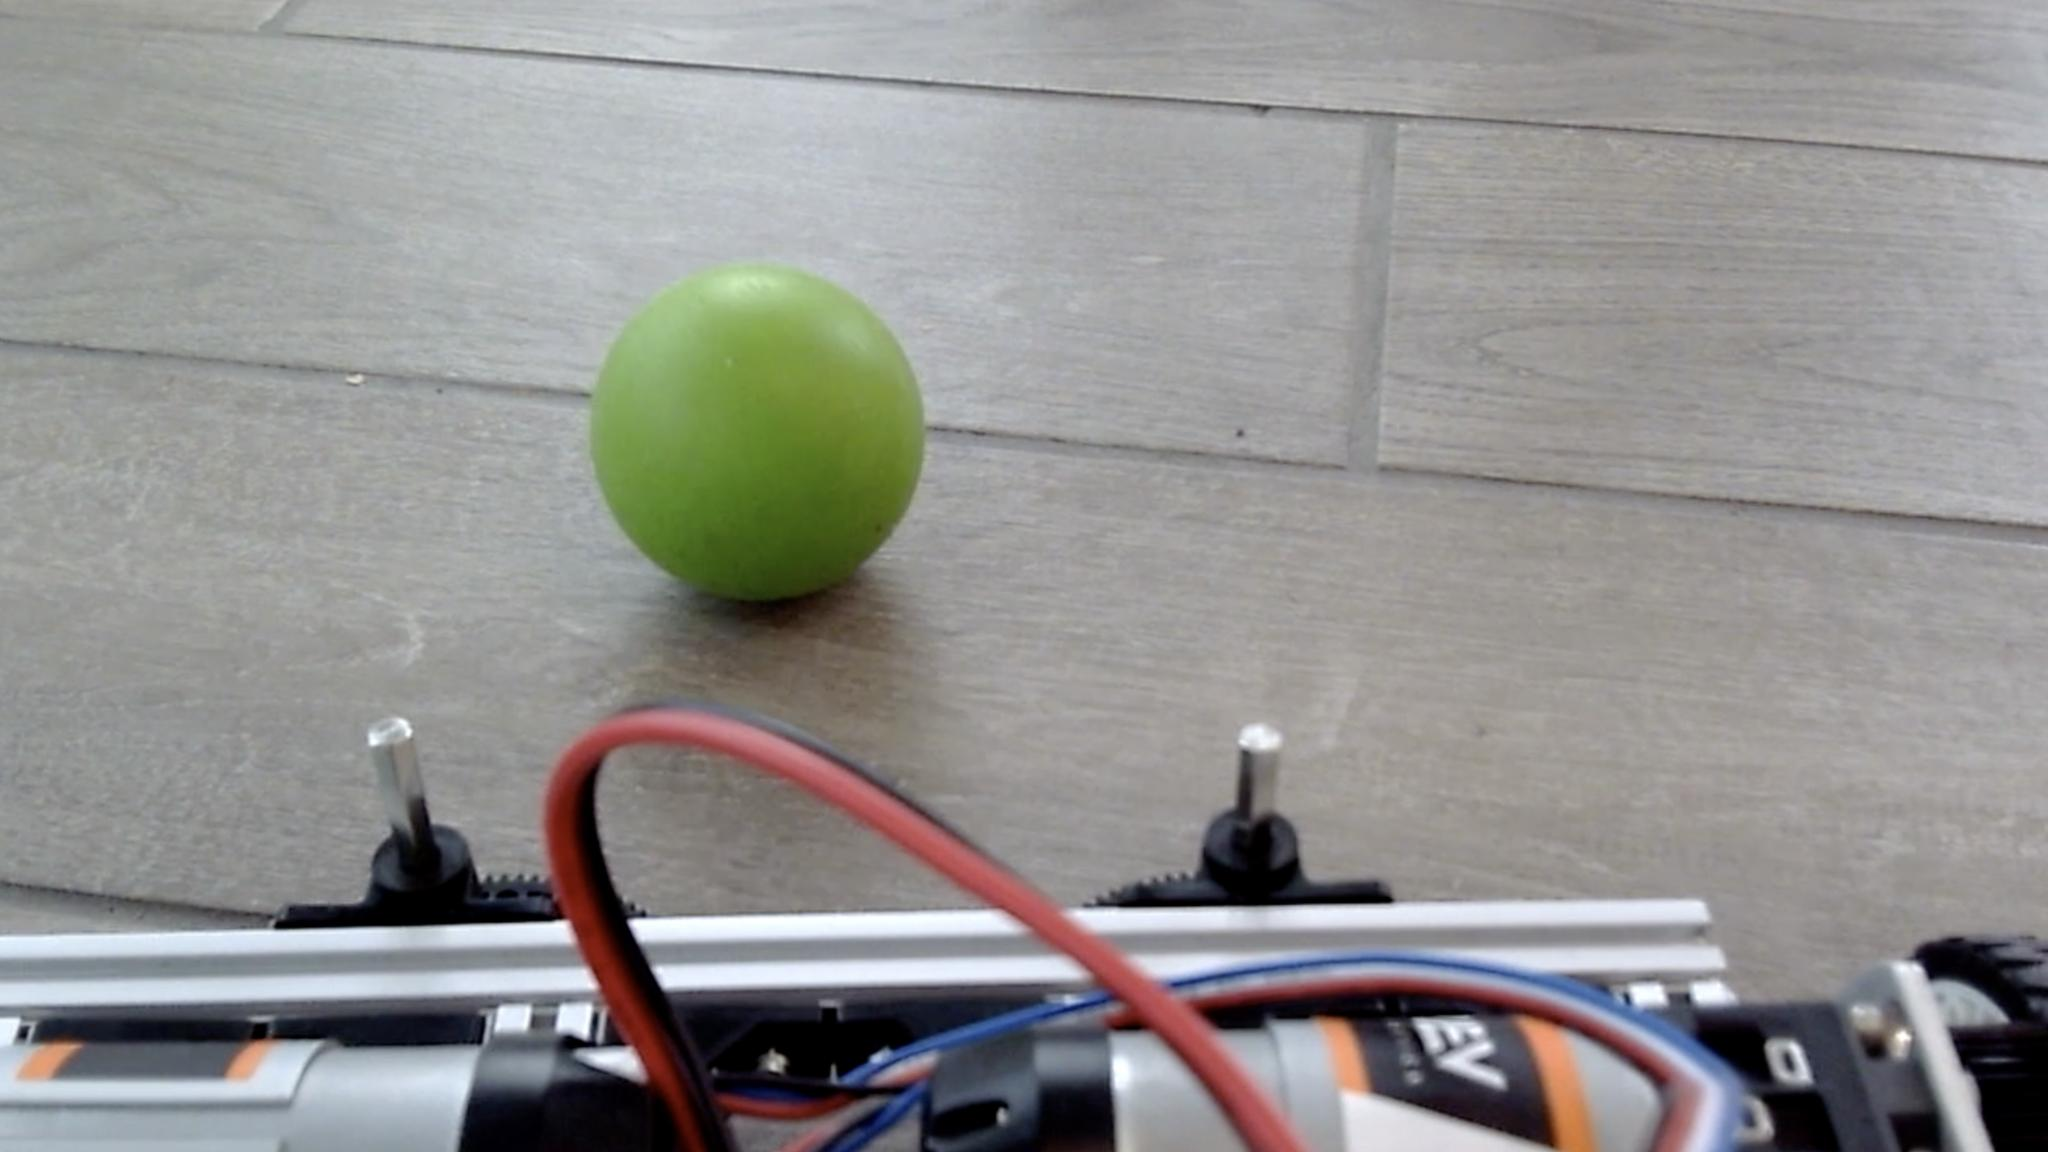Green Ball: (585, 256, 928, 605)
